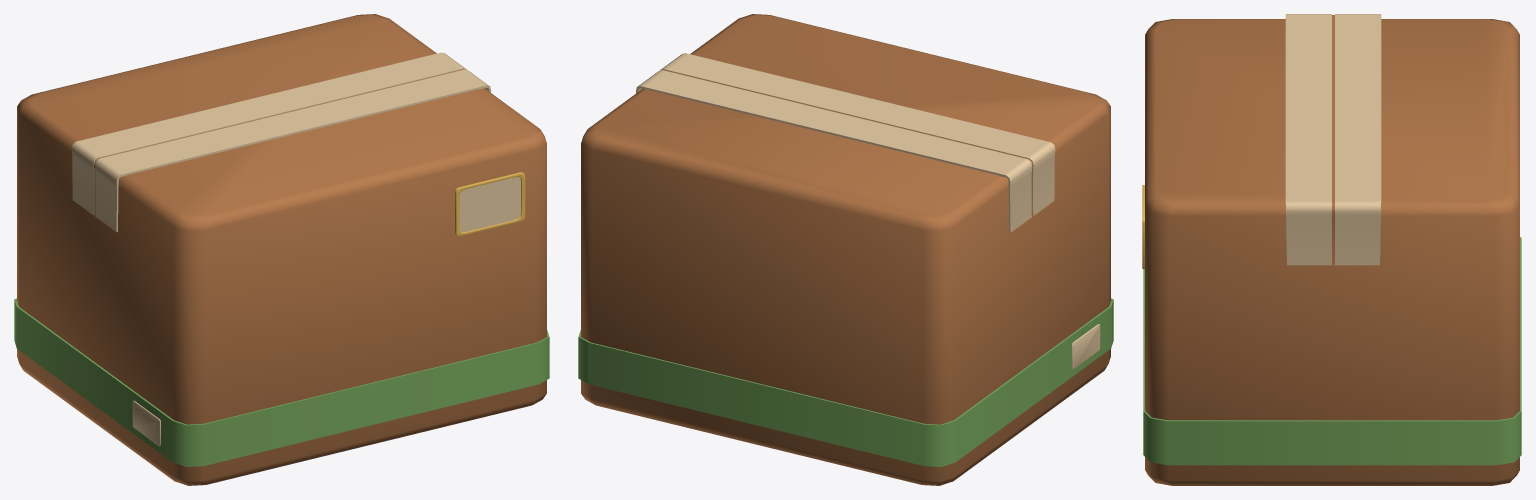
3 views of the same model, side by side, from view 1: azimuth 30°, elevation 25°; view 2: azimuth 150°, elevation 25°; view 3: azimuth 270°, elevation 25° (orthographic). The views are drawn at different scales.
Visible parts, largest first — view 1: Plane.004, Plane.006, tape.003, Plane.011, Plane.012; view 2: Plane.004, Plane.006, tape.003, Plane.012; view 3: Plane.004, tape.003, Plane.006.
Part boxes in pixels (x1,y1,x2,y2): Plane.004: [17, 14, 546, 485]; Plane.006: [14, 298, 549, 466]; tape.003: [71, 52, 491, 232]; Plane.011: [455, 172, 525, 236]; Plane.012: [132, 400, 160, 445]; Plane.004: [581, 14, 1110, 485]; Plane.006: [578, 298, 1113, 466]; tape.003: [636, 53, 1055, 232]; Plane.012: [1072, 324, 1100, 369]; Plane.004: [1145, 19, 1519, 485]; tape.003: [1285, 14, 1381, 265]; Plane.006: [1143, 237, 1521, 465].
Size of the model in its own units: 171 by 117 by 141.
